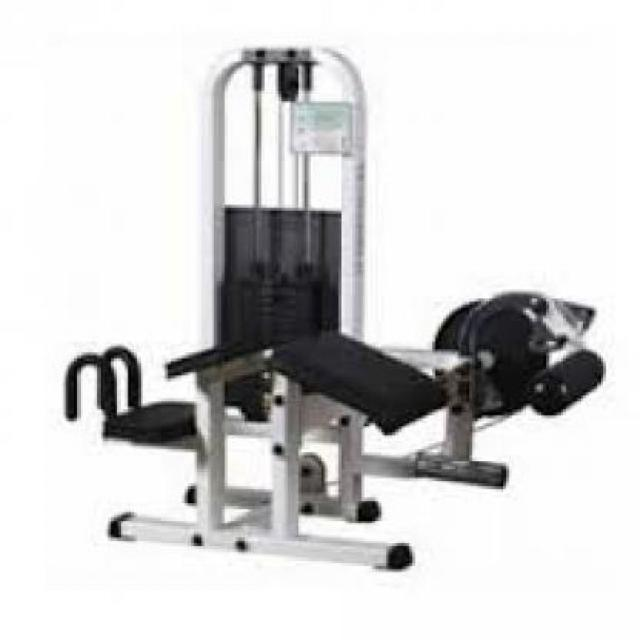reg curl machine: (58, 43, 608, 579)
